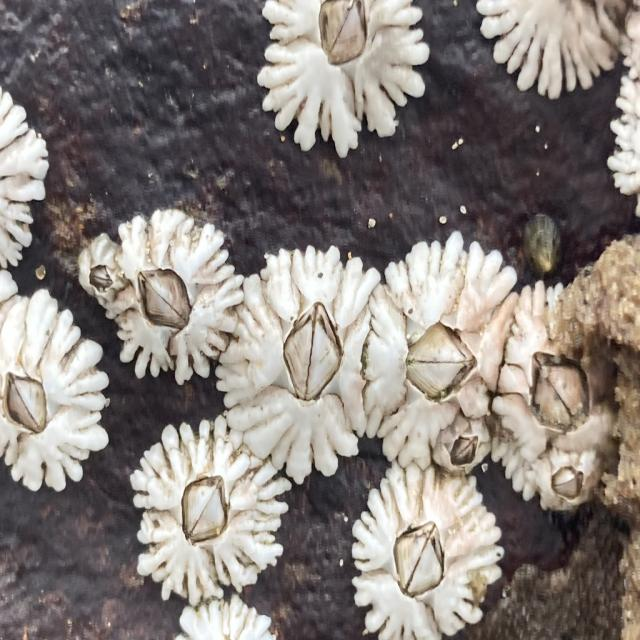barnacles: (224, 254, 392, 488), (252, 0, 428, 164), (126, 414, 277, 597), (366, 226, 512, 414), (350, 476, 507, 639), (0, 301, 112, 503), (496, 292, 618, 461), (119, 218, 234, 385), (74, 222, 129, 321), (433, 412, 498, 490), (522, 452, 601, 513)
